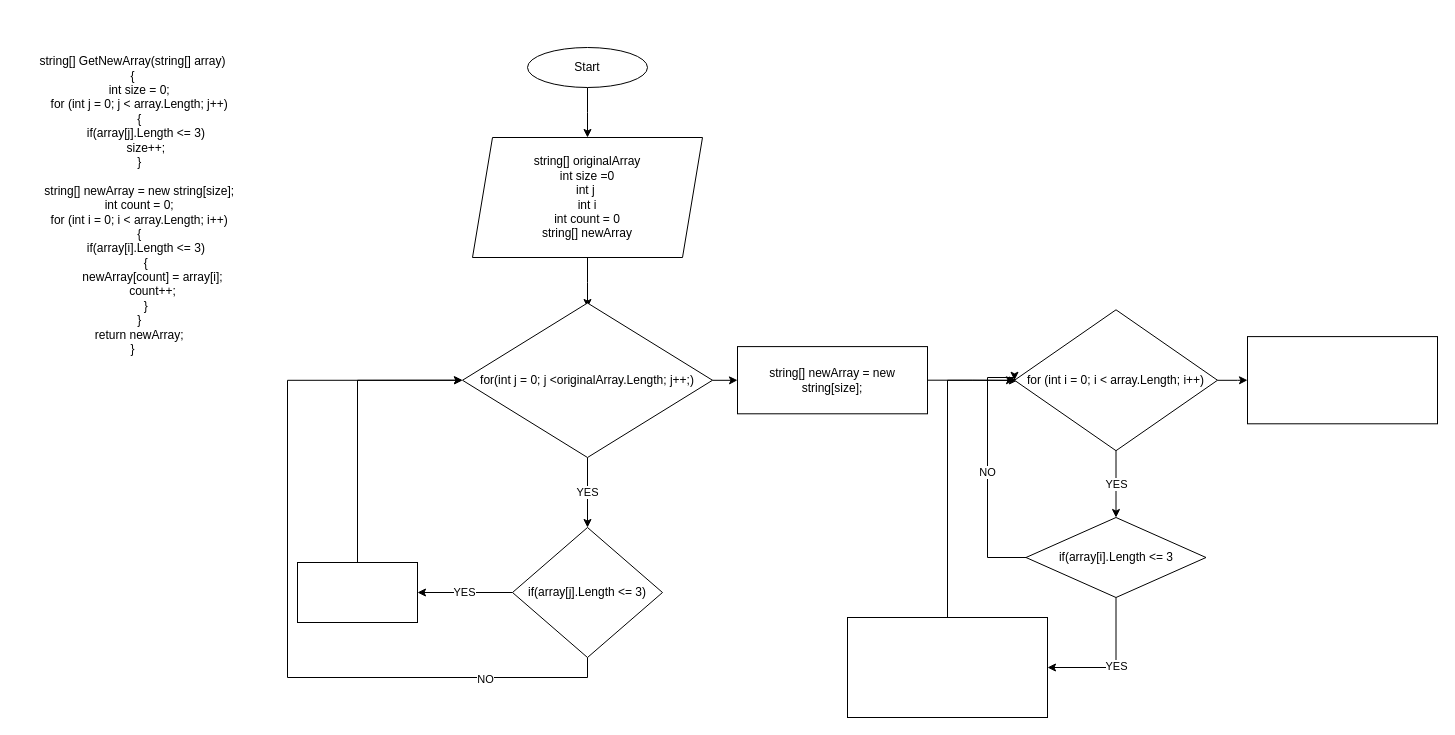
This 1455x735 diagram has some shape labels left out. The centre of each missing label's shape, as x and y in pixels:
"newArray[count] = array[i]; count++;" goes at point 947,667.
"return newArray" goes at point 1342,380.
"size++" goes at point 357,592.
